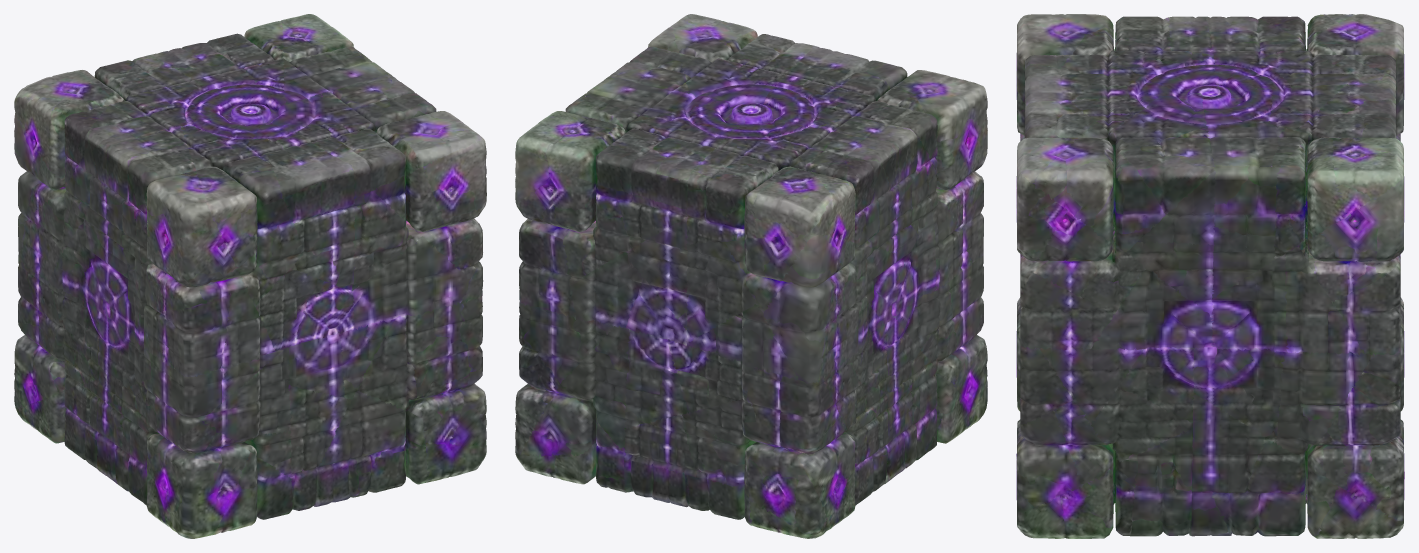
The model's file is battlefield.glb.
The picture shows the model from 3 angles, left to right: view 1: azimuth 30°, elevation 25°; view 2: azimuth 150°, elevation 25°; view 3: azimuth 270°, elevation 25°; orthographic projection. The views are drawn at different scales.
Bounding box in the file's own units: 1.81 × 1.9 × 1.81.
Materials: 1 (1 with a texture image).
